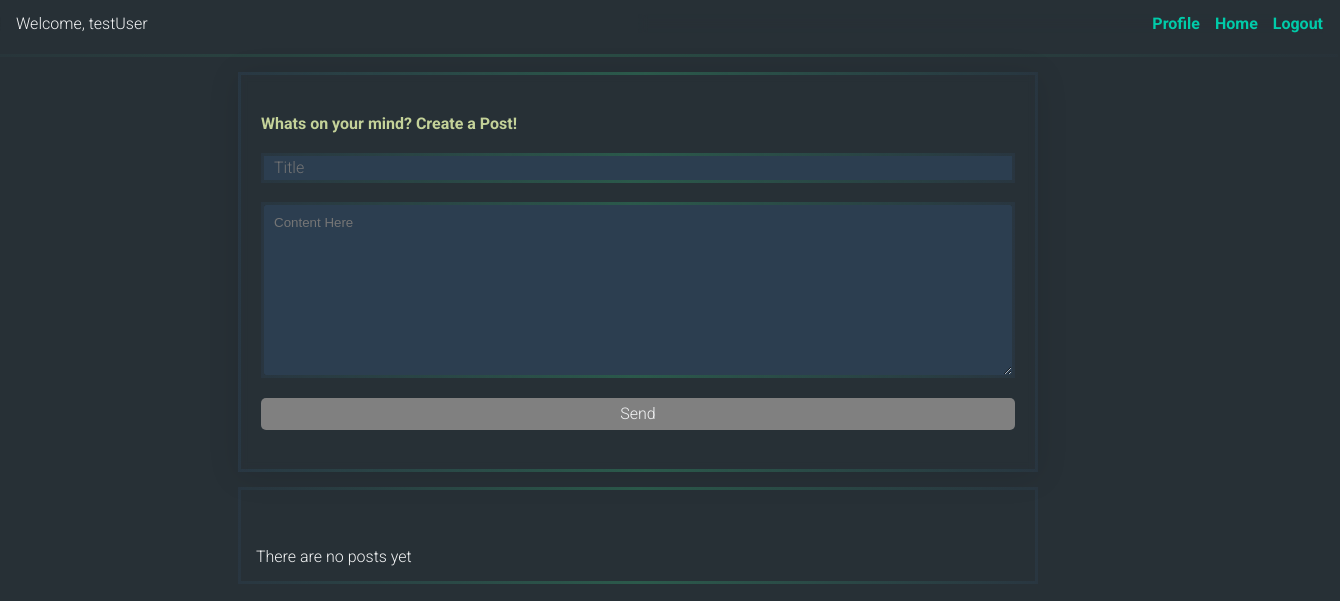
Test: <Home/> - Integration › should fail to create post and display message
Type "This is a title" into the field with placeholder "Title" at (638, 168), box [261, 153, 1015, 183]
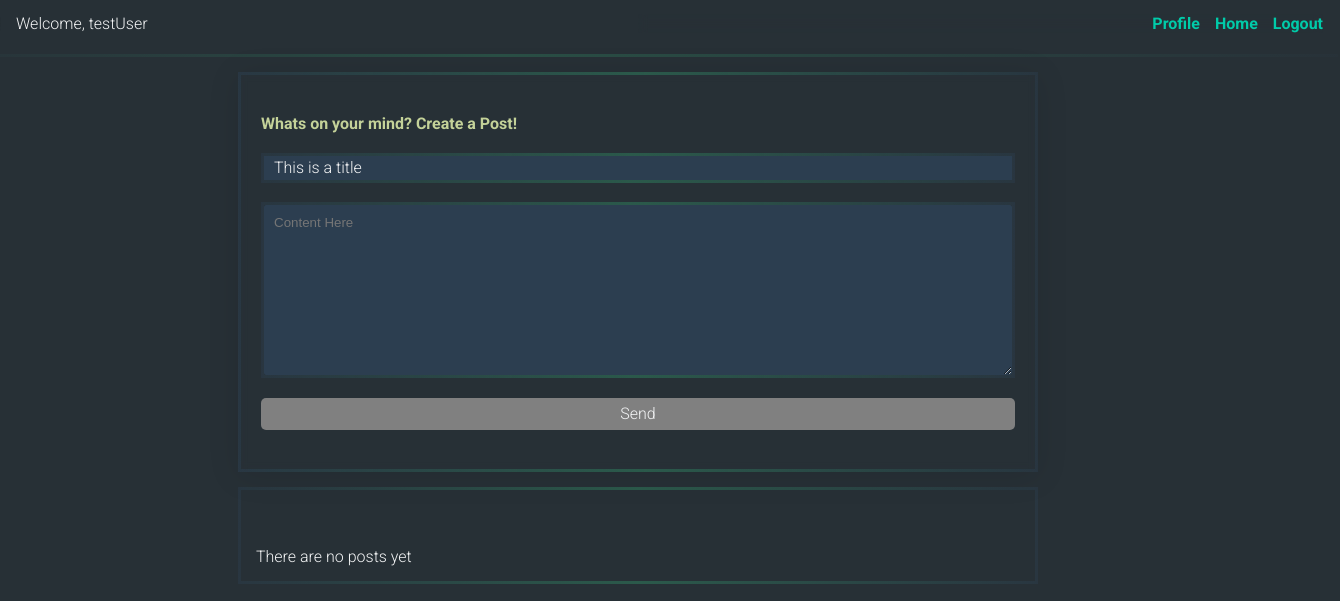
Type "content" into the text box with placeholder "Content Here" at (638, 290), box [261, 202, 1015, 378]
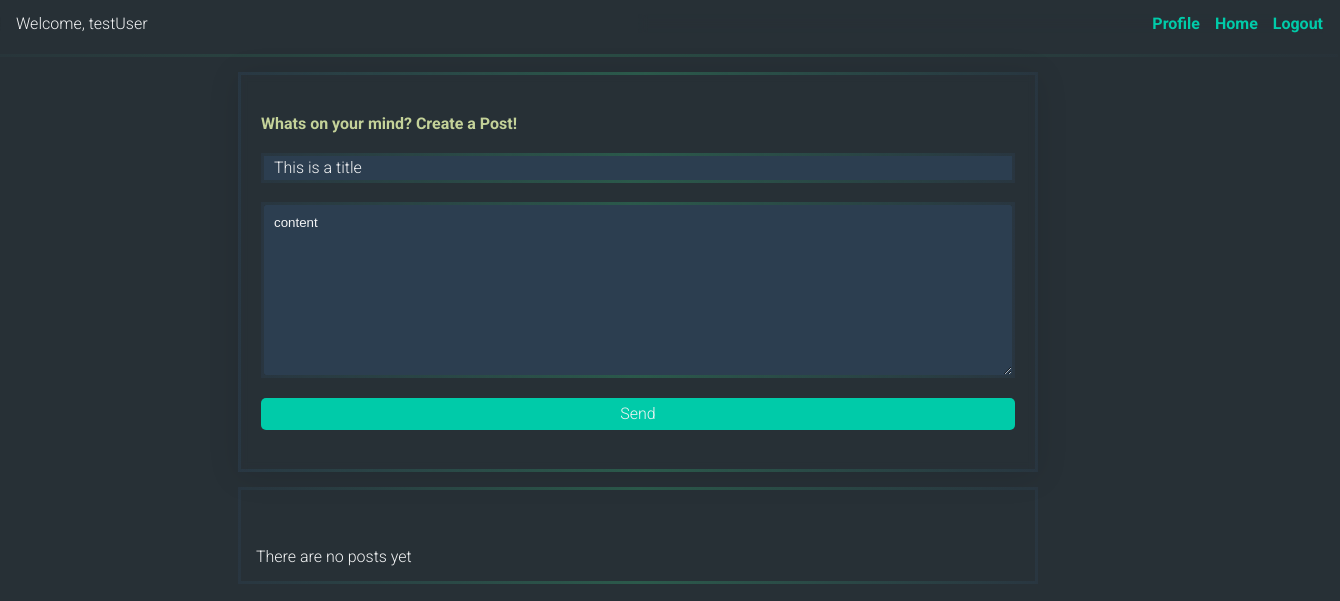
Submit the form with test id "form", box [238, 72, 1038, 472]
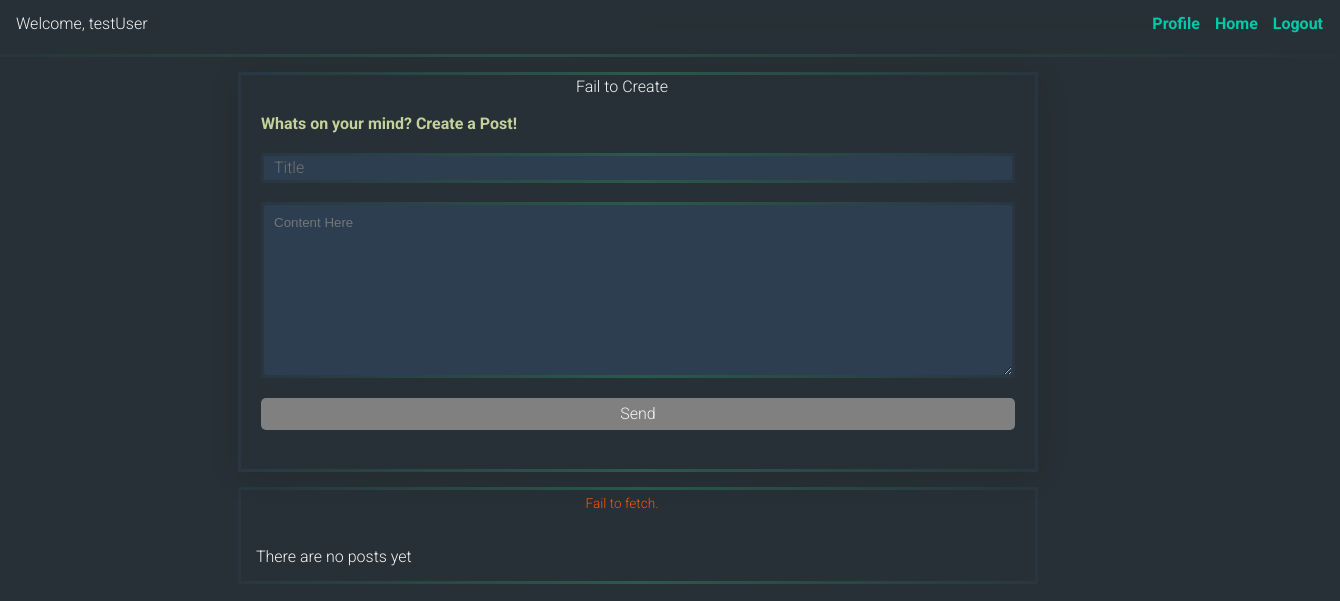
Expected: the text "Fail to Create" is shown, [576, 77, 668, 96]
